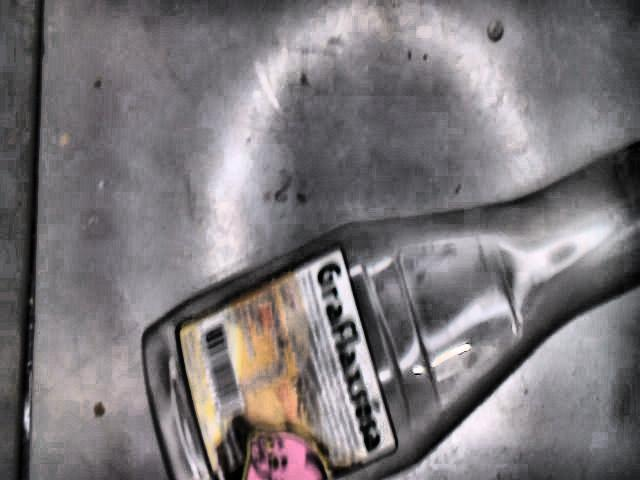Plastic: (141, 143, 640, 480)
